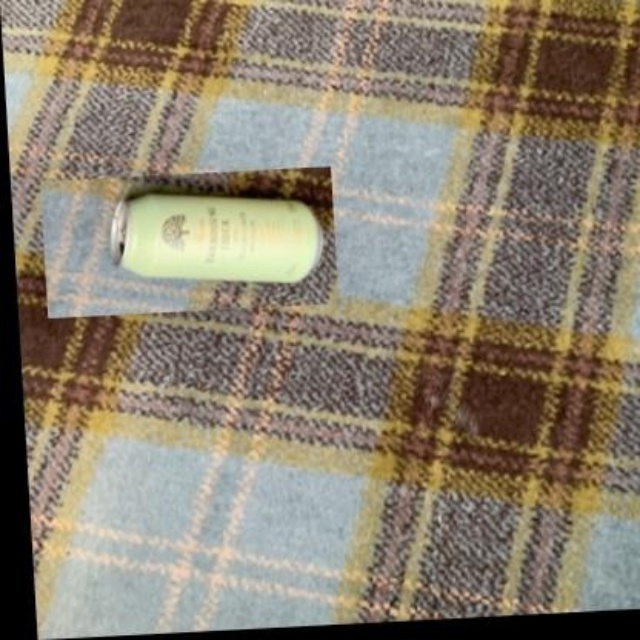trash: (111, 194, 320, 282)
